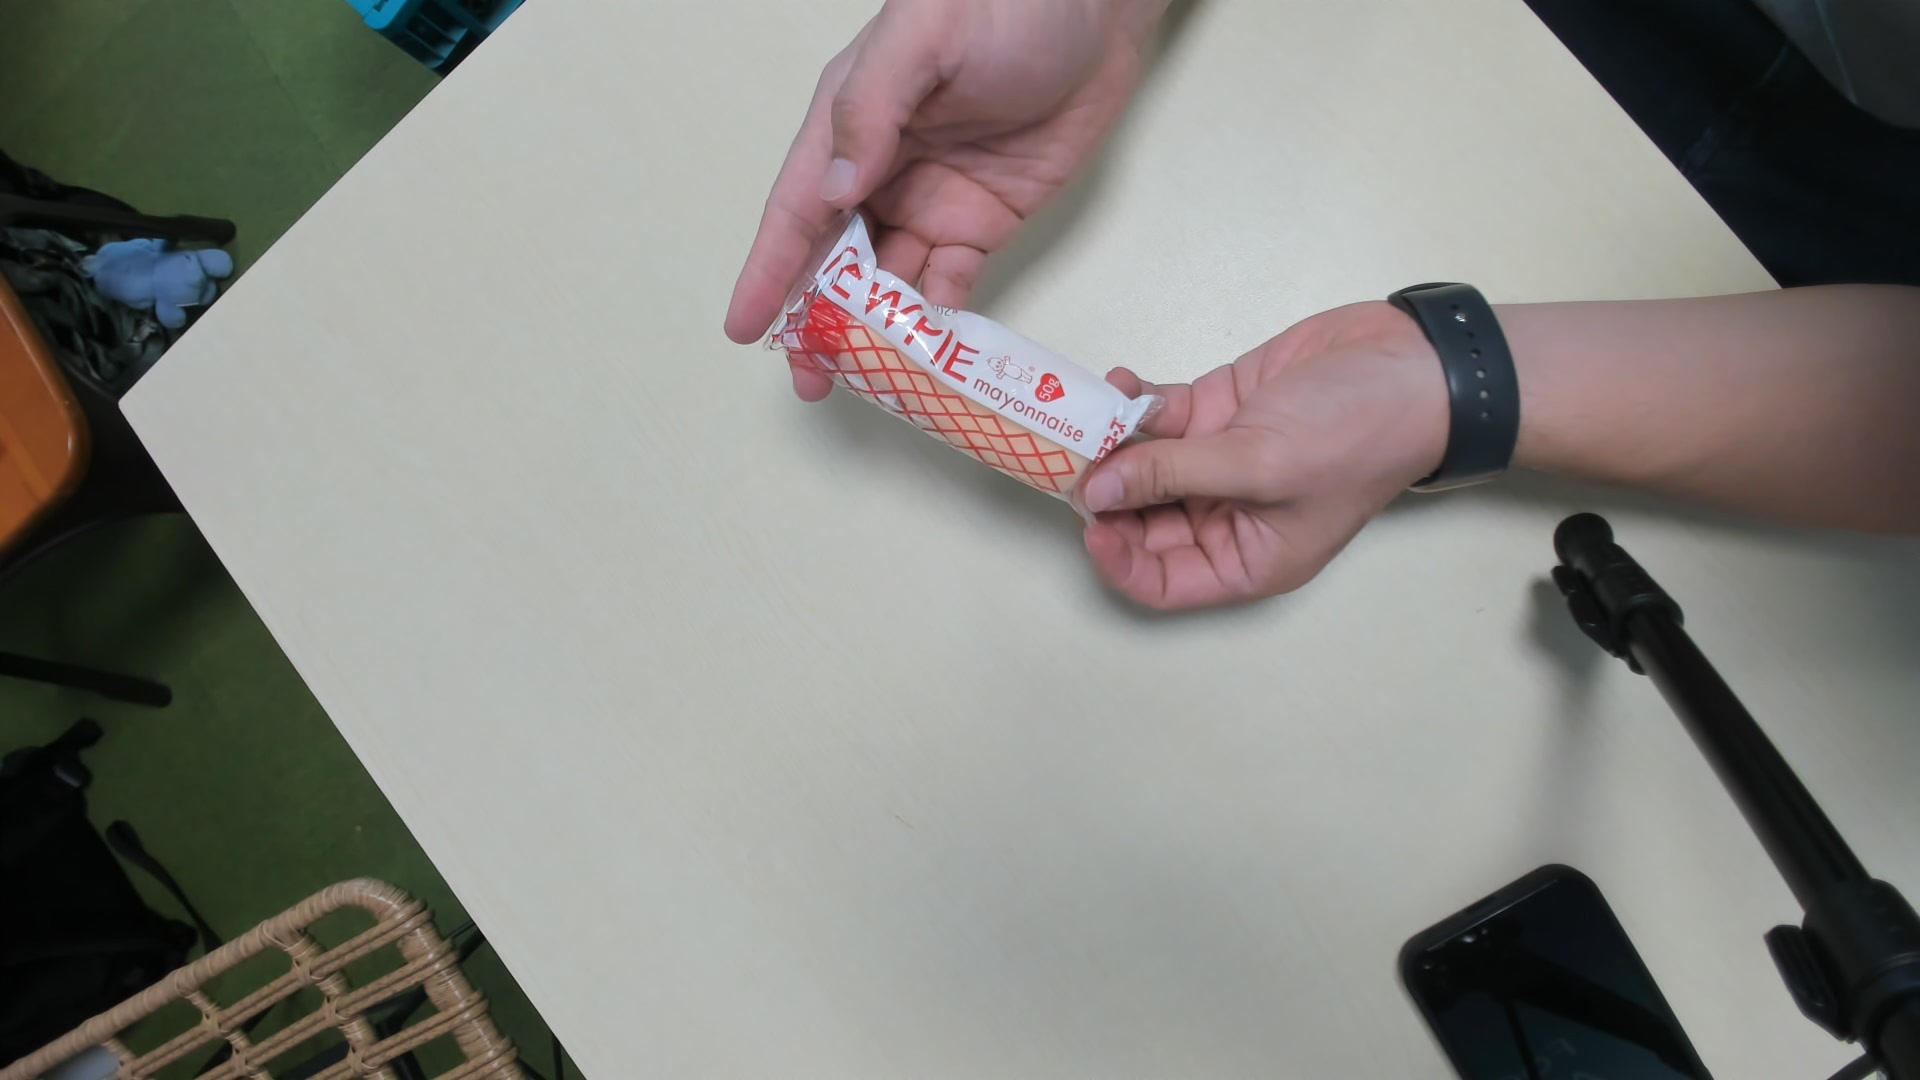OtherSauceDressing_0-99g_NonHalal_NonHealthy: (765, 215, 1153, 525)
